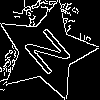N: (21, 26, 80, 85)
